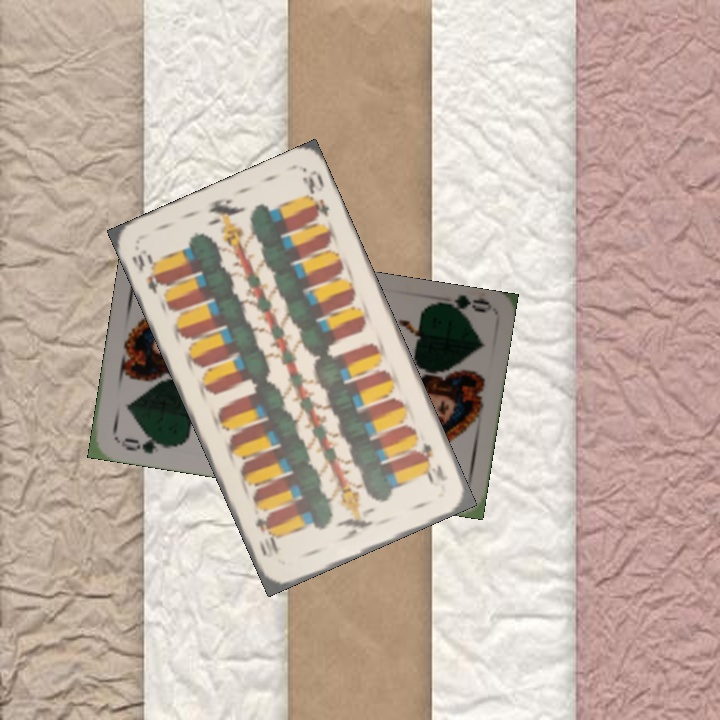E10: (127, 245, 168, 297), (415, 438, 450, 485)
GO: (430, 292, 490, 321), (115, 430, 174, 457)
